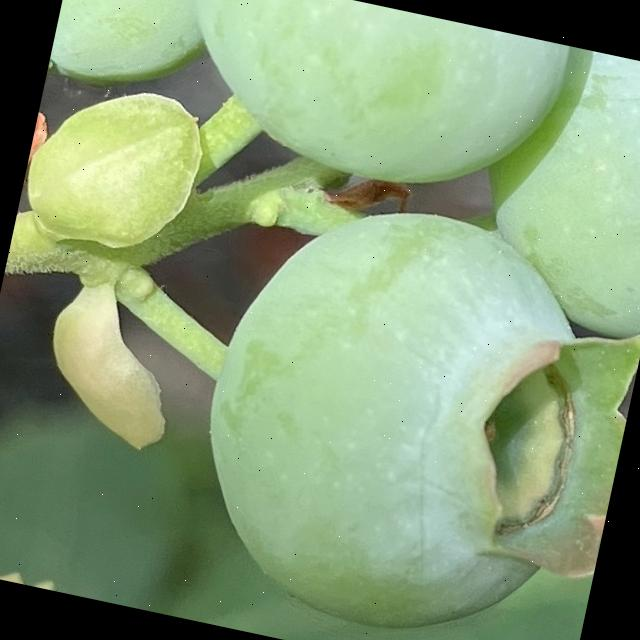Blueberries: (153, 150, 640, 640), (146, 0, 596, 222)
